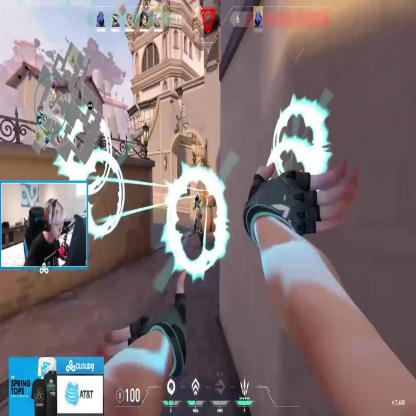enemy: (192, 192, 206, 251)
enemy_head: (196, 191, 199, 199)
